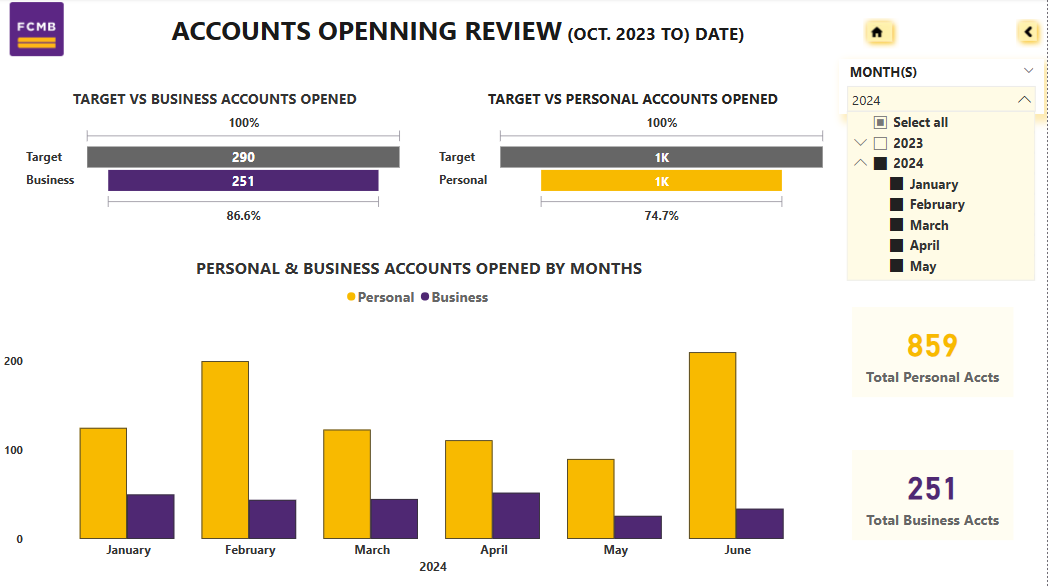

This screenshot's page, from the dashboard's own definition file:
{"tool":"powerbi","page":{"name":"Opened Accounts","canvas":[1280,720],"ordinal":2},"visuals":[{"type":"actionButton","box":[1236.7,21,39.1,40.5],"z":0},{"type":"actionButton","box":[1050.2,20.6,48.2,41.3],"z":1000},{"type":"card","fields":{"Values":["Sum(Sales & Marketing Data.Business Accounts (BA))"]},"box":[1040.5,551.9,196.8,110.1],"z":2000},{"type":"card","fields":{"Values":["Sum(Sales & Marketing Data.Personal Accounts (PA))"]},"box":[1040.5,377.1,196.8,110.1],"z":2500},{"type":"clusteredColumnChart","title":"PERSONAL & BUSINESS ACCOUNTS OPENED BY MONTHS","fields":{"Y":["Sum(Sales & Marketing Data.Personal Accounts (PA))","Sum(Sales & Marketing Data.Business Accounts (BA))"],"Category":["Sales & Marketing Data.Date.Variation.Date Hierarchy.Year","Sales & Marketing Data.Date.Variation.Date Hierarchy.Month"]},"box":[0,315.2,1025.4,404.6],"z":3000},{"type":"funnel","title":"TARGET VS PERSONAL ACCOUNTS OPENED","fields":{"Y":["Sum(Sales & Marketing Data.PA Target)","Sum(Sales & Marketing Data.Personal Accounts (PA))"]},"box":[532.6,110.1,483.1,172],"z":4000},{"type":"funnel","title":"TARGET VS BUSINESS ACCOUNTS OPENED","fields":{"Y":["Sum(Sales & Marketing Data.BA Target)","Sum(Sales & Marketing Data.Business Accounts (BA))"]},"box":[27.5,110.1,470.7,172],"z":5000},{"type":"slicer","fields":{"Values":["Sales & Marketing Data.Date.Variation.Date Hierarchy.Year","Sales & Marketing Data.Date.Variation.Date Hierarchy.Month"]},"box":[1025.4,74.3,250.5,67.4],"z":6000},{"type":"textbox","box":[155.5,11,810.7,64.7],"z":7000},{"type":"image","box":[0,0,92.2,75.7],"z":8000}]}

Visuals, with their boxes in screenshot pixels (x1, y1, x2, y2), scaled from the page's 1280x720 canvas onto the 1048x587 screenshot:
actionButton: region(1013, 17, 1045, 50)
actionButton: region(860, 17, 899, 50)
card - Sum(Sales & Marketing Data.Business Accounts (BA)): region(852, 450, 1013, 540)
card - Sum(Sales & Marketing Data.Personal Accounts (PA)): region(852, 307, 1013, 397)
"PERSONAL & BUSINESS ACCOUNTS OPENED BY MONTHS" clusteredColumnChart: region(0, 257, 840, 586)
"TARGET VS PERSONAL ACCOUNTS OPENED" funnel: region(436, 90, 832, 230)
"TARGET VS BUSINESS ACCOUNTS OPENED" funnel: region(23, 90, 408, 230)
slicer - Sales & Marketing Data.Date.Variation.Date Hierarchy.Year x Sales & Marketing Data.Date.Variation.Date Hierarchy.Month: region(840, 61, 1045, 116)
textbox: region(127, 9, 791, 62)
image: region(0, 0, 75, 62)
